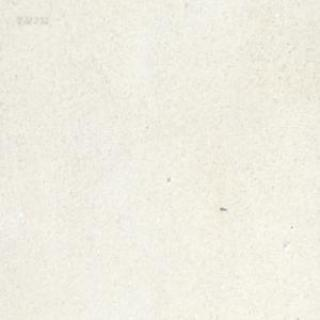Nailtrack_idkeyframe: (219, 205, 226, 210)
